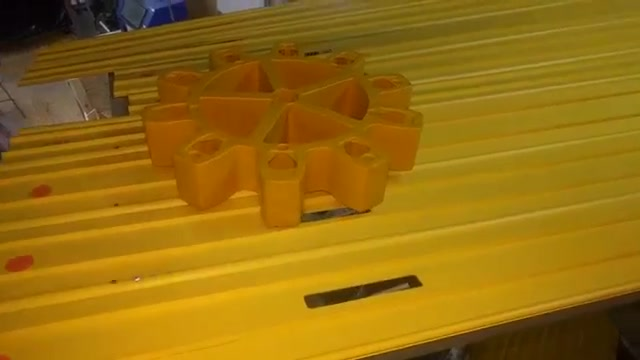gear: (132, 45, 436, 233)
